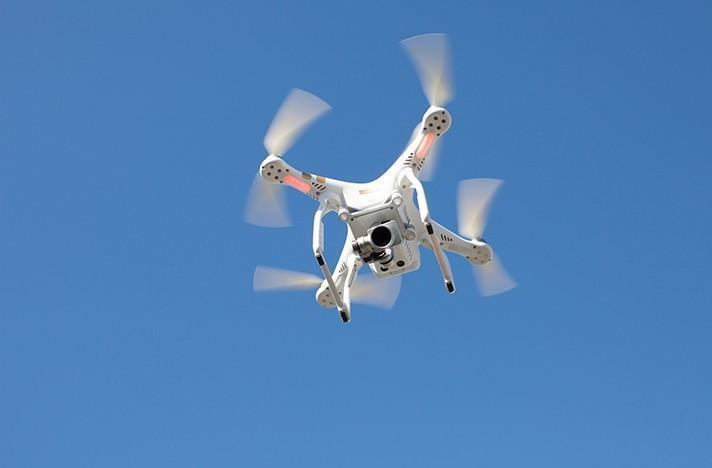UAV: (256, 100, 498, 328)
